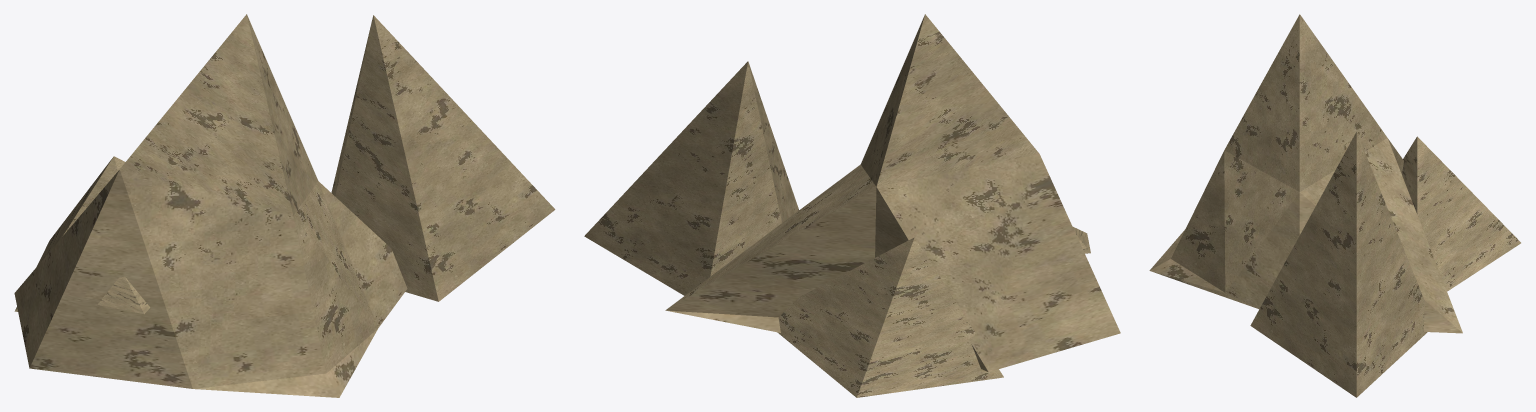
Rendered from ae_battle_rock_cluster_lod1.glb.
3 views of the same model, side by side, from view 1: azimuth 30°, elevation 25°; view 2: azimuth 150°, elevation 25°; view 3: azimuth 270°, elevation 25° (orthographic). The views are drawn at different scales.
Parts seen in each view (by area): view 1: ae_battle_rock_cluster_lod1; view 2: ae_battle_rock_cluster_lod1; view 3: ae_battle_rock_cluster_lod1.
Part boxes in pixels (<box>): ae_battle_rock_cluster_lod1: <box>14,14,555,397</box>; ae_battle_rock_cluster_lod1: <box>584,14,1120,397</box>; ae_battle_rock_cluster_lod1: <box>1149,14,1520,397</box>.
Size of the model in its own units: 10.7 by 5.76 by 7.57.
1 material, 1 textured.
